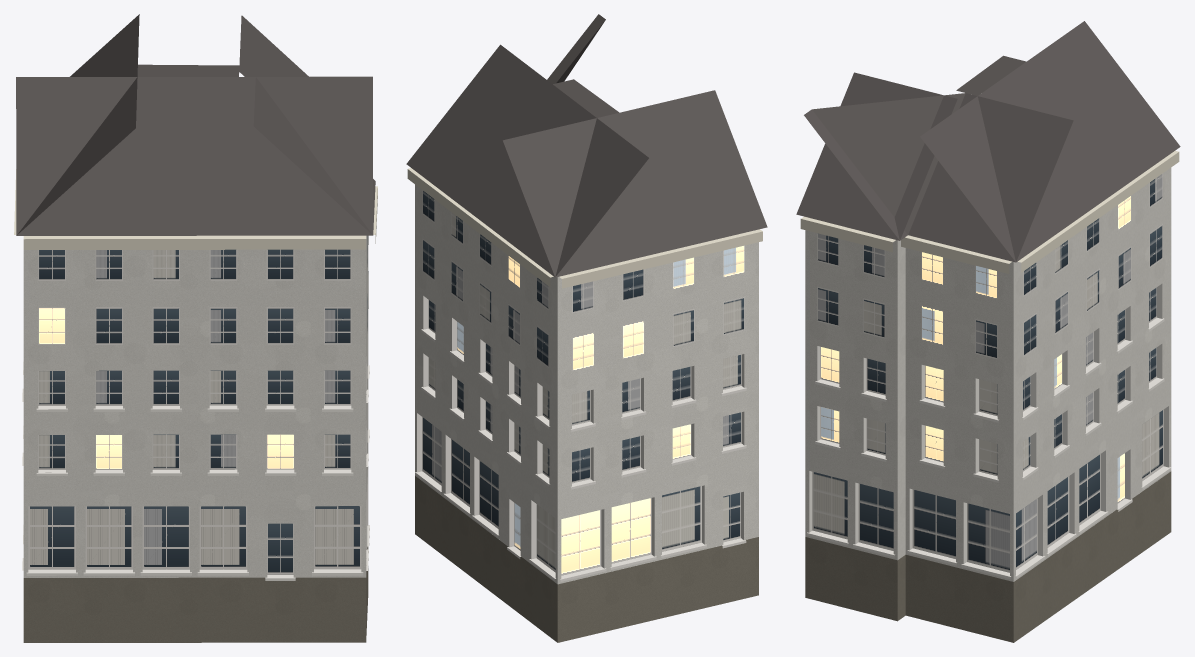
Rendered from z3c_hb_cream.glb.
3 views of the same model, side by side, from view 1: azimuth 30°, elevation 25°; view 2: azimuth 150°, elevation 25°; view 3: azimuth 270°, elevation 25° (orthographic). The views are drawn at different scales.
Visible parts, largest first — view 1: z3c_hb_cream; view 2: z3c_hb_cream; view 3: z3c_hb_cream.
Boxes of the visible parts, x1,y1,x2,y2 form: z3c_hb_cream: [14, 14, 377, 642]; z3c_hb_cream: [406, 14, 767, 642]; z3c_hb_cream: [796, 21, 1180, 642].
Size of the model in its own units: 18.02 by 23.92 by 17.15.
Materials: 3 (3 with a texture image).
